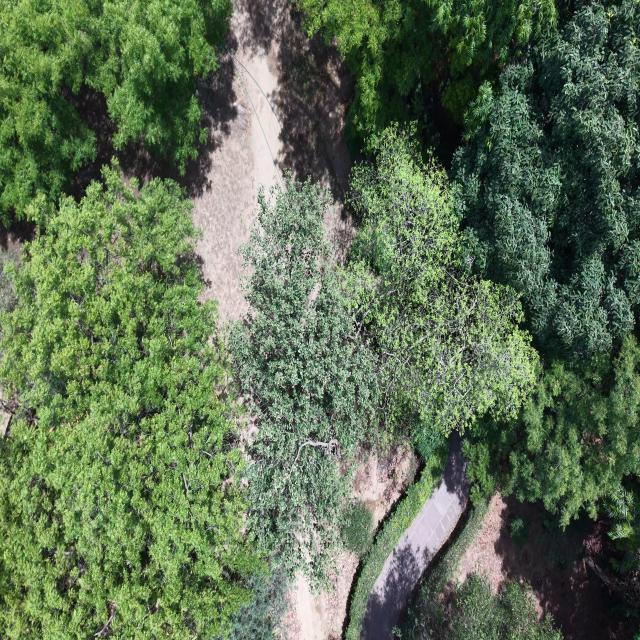DRY_AREA: (72, 0, 354, 321), (74, 54, 293, 320), (188, 0, 354, 321), (193, 0, 353, 320), (187, 56, 292, 320), (452, 494, 636, 639), (194, 58, 282, 319), (361, 432, 469, 639), (281, 550, 358, 639), (0, 224, 30, 309), (0, 227, 29, 311)
VEGETATION_TREE: (0, 0, 639, 639), (230, 127, 535, 576), (0, 167, 259, 638), (452, 2, 639, 525), (345, 127, 536, 639), (453, 0, 639, 525), (452, 0, 639, 359), (347, 127, 536, 458), (229, 178, 378, 576), (0, 0, 231, 225), (297, 0, 555, 148), (467, 336, 639, 525), (396, 500, 562, 639), (476, 499, 639, 639), (345, 448, 446, 639), (401, 501, 489, 633), (414, 574, 562, 639), (603, 474, 639, 631), (228, 558, 289, 639), (607, 482, 639, 572), (341, 502, 374, 555), (0, 248, 18, 311), (509, 516, 529, 548), (634, 632, 639, 639)
